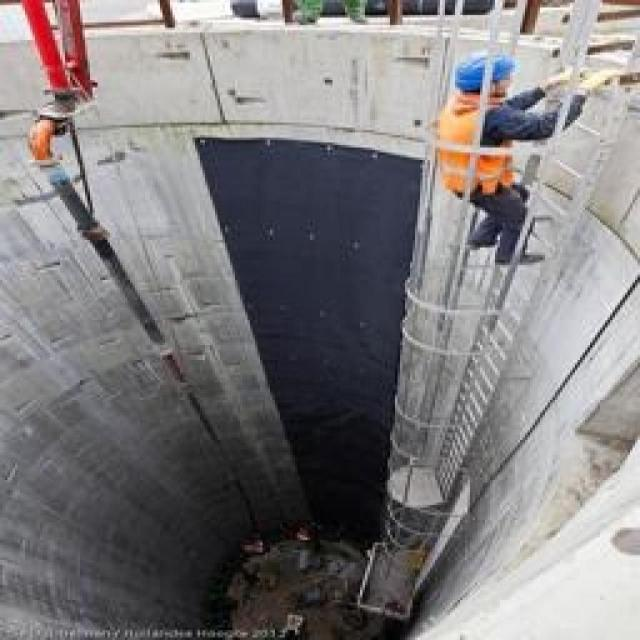Helmet: (444, 34, 530, 114)
Safety Vest: (434, 95, 544, 232)
